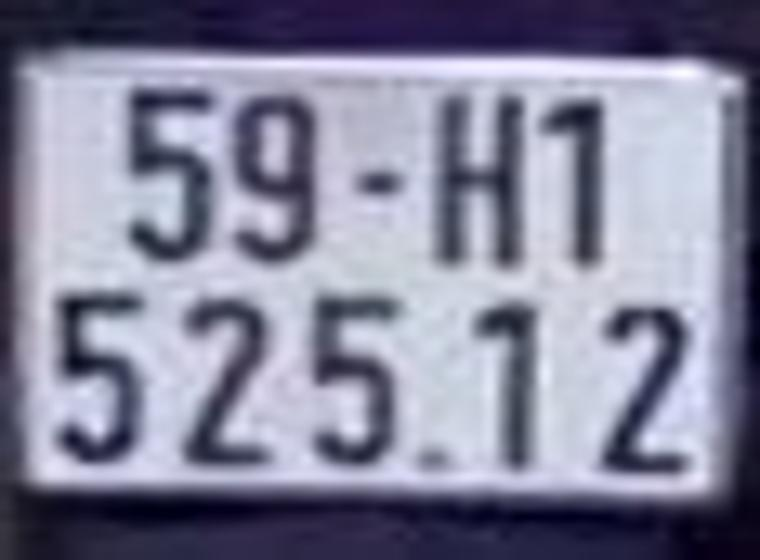-: (353, 168, 410, 197)
.: (416, 442, 455, 477)
1: (541, 94, 617, 278), (472, 296, 544, 468)
2: (596, 304, 699, 481), (179, 295, 279, 473)
5: (308, 286, 406, 474), (121, 80, 222, 260), (53, 289, 150, 463)
9: (229, 90, 325, 267)
H: (430, 87, 530, 274)
